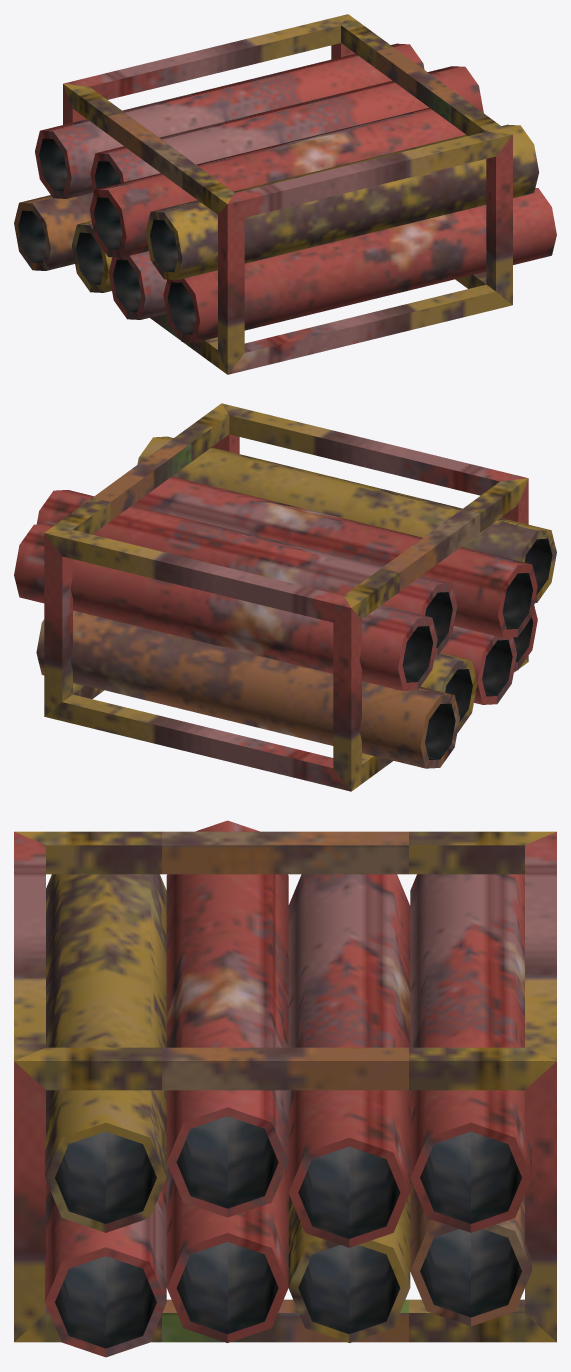
The model's file is SM_MULTIPIPES_01.fbx.
The picture shows the model from 3 angles, top to bottom: view 1: azimuth 30°, elevation 25°; view 2: azimuth 150°, elevation 25°; view 3: azimuth 270°, elevation 25°; orthographic projection. The views are drawn at different scales.
Visible parts, largest first — view 1: SM_MULTIPIPES_01; view 2: SM_MULTIPIPES_01; view 3: SM_MULTIPIPES_01.
Boxes of the visible parts, x1,y1,x2,y2 form: SM_MULTIPIPES_01: (14,14,556,374); SM_MULTIPIPES_01: (14,403,556,791); SM_MULTIPIPES_01: (14,820,556,1357).
Bounding box in the file's own units: 2.78 × 1.14 × 2.
